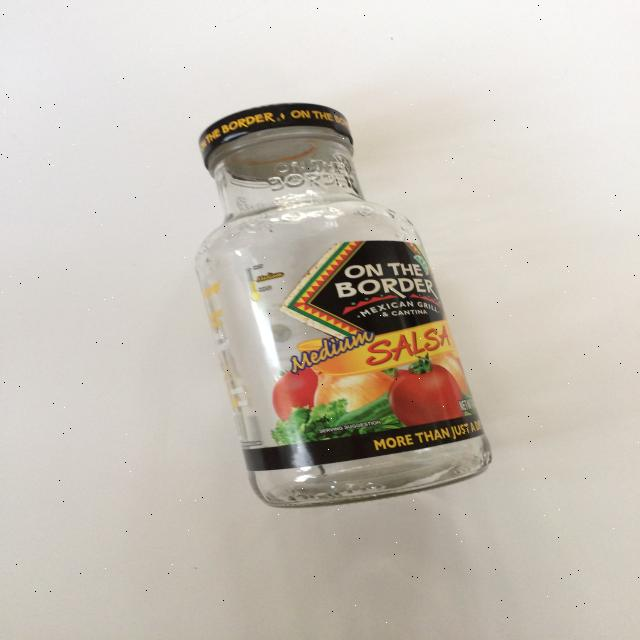glass: (193, 102, 493, 508)
